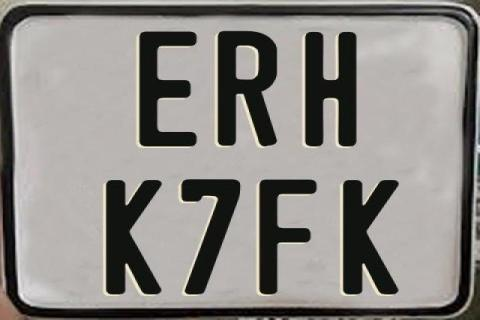0: (181, 178, 242, 296)
E: (138, 29, 200, 145)
F: (257, 178, 316, 296)
H: (304, 32, 359, 150)
K: (104, 180, 163, 296), (341, 179, 398, 297)
R: (215, 31, 276, 148)
